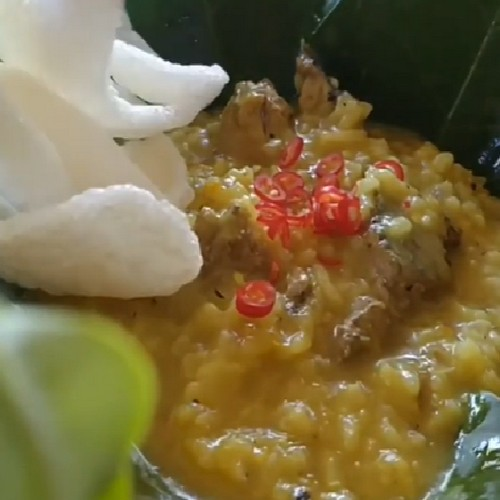bubur mengguh: (166, 100, 498, 466)
